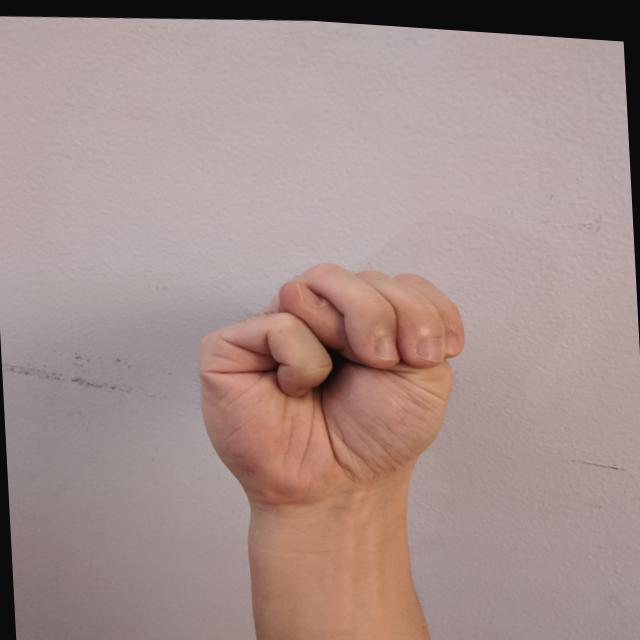M: (178, 236, 486, 530)
